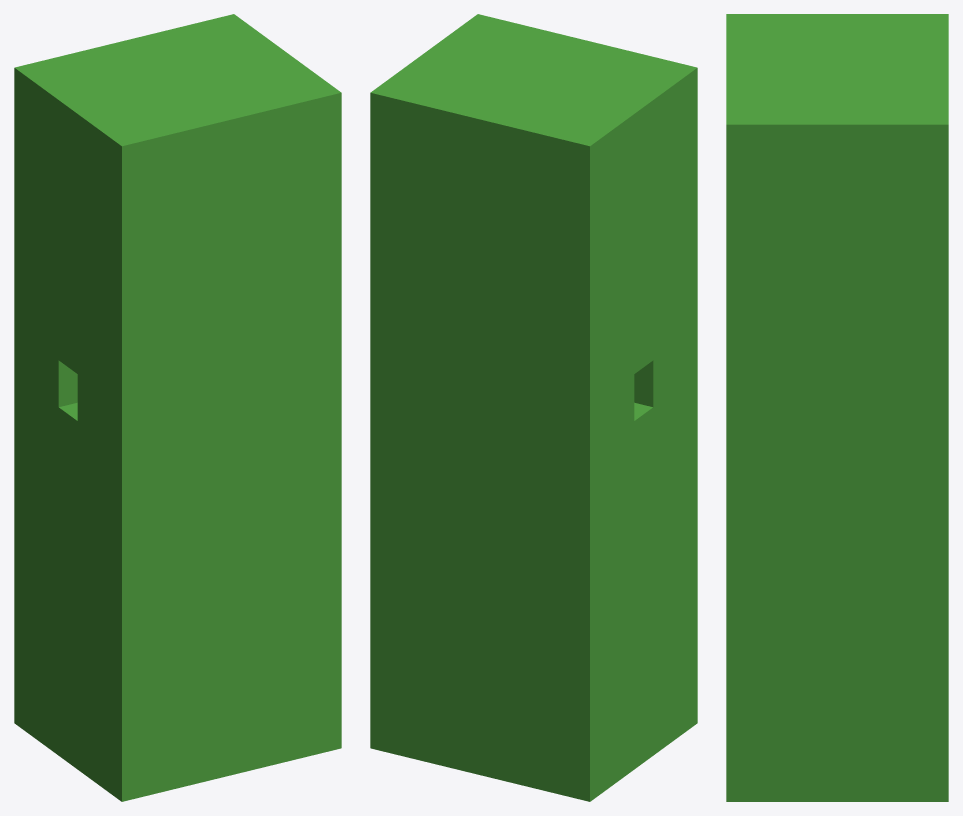
The model's file is a_wahler_lvl_2_object_door.fbx.
3 views of the same model, side by side, from view 1: azimuth 30°, elevation 25°; view 2: azimuth 150°, elevation 25°; view 3: azimuth 270°, elevation 25° (orthographic). The views are drawn at different scales.
Visible parts, largest first — view 1: door1; view 2: door1; view 3: door1.
Part boxes in pixels (x1=…): door1: x1=14, y1=14, x2=341, y2=801; door1: x1=370, y1=14, x2=697, y2=801; door1: x1=726, y1=14, x2=948, y2=801.
Bounding box in the file's own units: 35.67 × 102 × 30.23.
